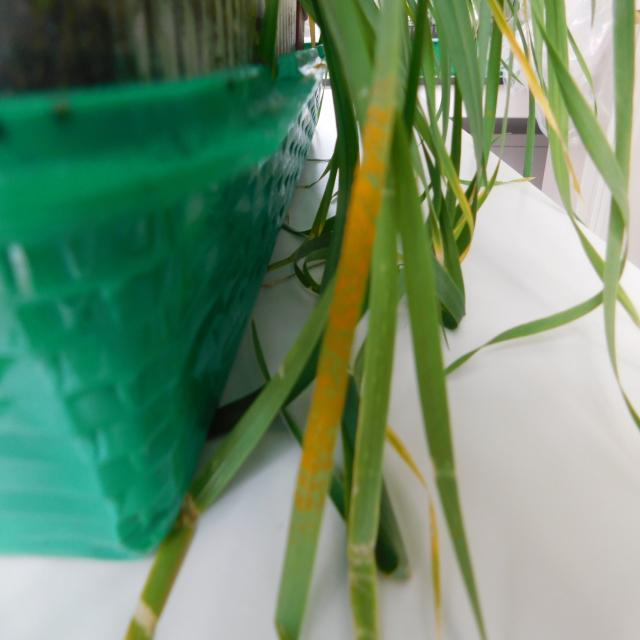wheat-yellowrust: (280, 27, 398, 562)
